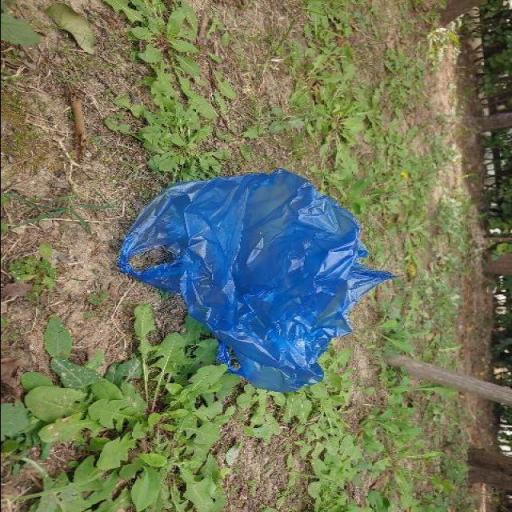plastic-bag: (118, 168, 397, 394)
